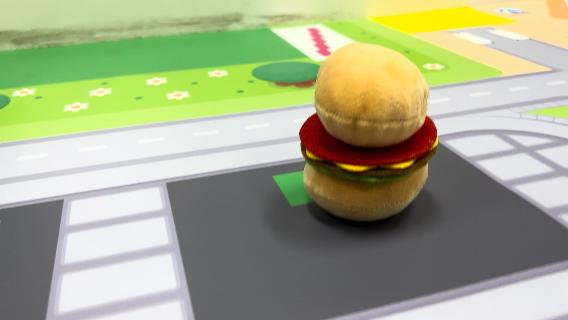burger: (295, 40, 442, 224)
